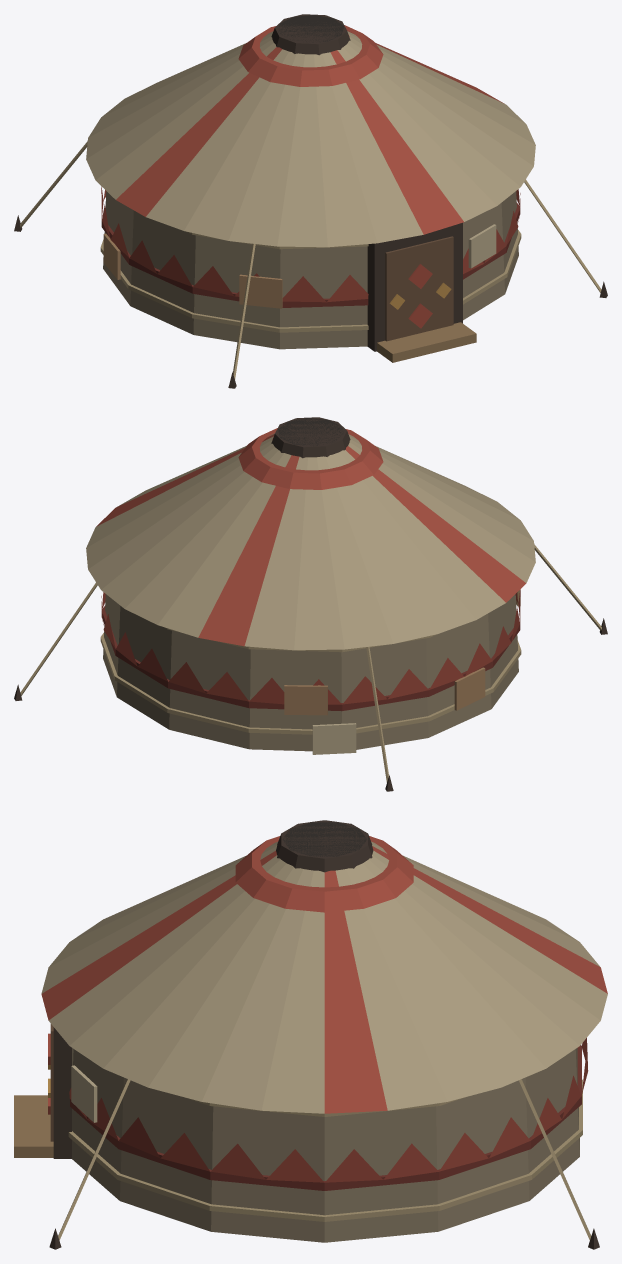
Rendered from yurt_old.glb.
The picture shows the model from 3 angles, top to bottom: view 1: azimuth 30°, elevation 25°; view 2: azimuth 150°, elevation 25°; view 3: azimuth 270°, elevation 25°; orthographic projection. The views are drawn at different scales.
Visible parts, largest first — view 1: felt roof.001, felt wall.001, painted door.001, painted crown band.001, door frame.001, door step.001, girth rope.002, roof crown.001, painted band.001, felt patch, smoke hole.001, felt patch.001 (+5 smaller); view 2: felt roof.001, felt wall.001, painted crown band.001, girth rope.002, roof crown.001, painted band.001, felt patch.002, felt patch.004, smoke hole.001, felt patch.003, painted zigzag.035, painted zigzag.038 (+4 smaller); view 3: felt roof.001, felt wall.001, painted crown band.001, girth rope.002, painted band.001, roof crown.001, door step.001, smoke hole.001, door frame.001, felt patch.001, painted zigzag.055, painted zigzag.028 (+9 smaller).
Boxes of the visible parts, bbox=[...] form: felt roof.001: bbox=[86, 30, 535, 247]; felt wall.001: bbox=[103, 191, 518, 349]; painted door.001: bbox=[385, 236, 453, 341]; painted crown band.001: bbox=[238, 25, 383, 86]; door frame.001: bbox=[367, 222, 462, 351]; door step.001: bbox=[377, 322, 476, 362]; girth rope.002: bbox=[100, 230, 521, 332]; roof crown.001: bbox=[271, 14, 350, 55]; painted band.001: bbox=[101, 202, 520, 307]; felt patch: bbox=[239, 274, 282, 308]; smoke hole.001: bbox=[278, 15, 343, 42]; felt patch.001: bbox=[468, 224, 496, 268]; felt roof.001: bbox=[86, 433, 535, 650]; felt wall.001: bbox=[103, 594, 518, 751]; painted crown band.001: bbox=[238, 428, 383, 489]; girth rope.002: bbox=[100, 633, 521, 734]; roof crown.001: bbox=[271, 417, 350, 458]; painted band.001: bbox=[101, 605, 520, 711]; felt patch.002: bbox=[312, 723, 356, 754]; felt patch.004: bbox=[284, 685, 327, 715]; smoke hole.001: bbox=[278, 418, 343, 445]; felt patch.003: bbox=[454, 667, 485, 710]; painted zigzag.035: bbox=[206, 672, 248, 701]; painted zigzag.038: bbox=[343, 676, 386, 704]; felt roof.001: bbox=[41, 841, 607, 1113]; felt wall.001: bbox=[72, 1048, 579, 1242]; painted crown band.001: bbox=[235, 836, 413, 912]; girth rope.002: bbox=[68, 1079, 582, 1221]; painted band.001: bbox=[70, 1045, 581, 1190]; roof crown.001: bbox=[276, 820, 373, 872]; door step.001: bbox=[14, 1095, 53, 1157]; smoke hole.001: bbox=[282, 822, 366, 856]; door frame.001: bbox=[53, 1027, 71, 1158]; felt patch.001: bbox=[71, 1065, 97, 1122]; painted zigzag.055: bbox=[266, 1149, 324, 1182]; painted zigzag.028: bbox=[325, 1149, 382, 1182].
Bounding box in the file's own units: 1.86 × 1.06 × 1.95.
